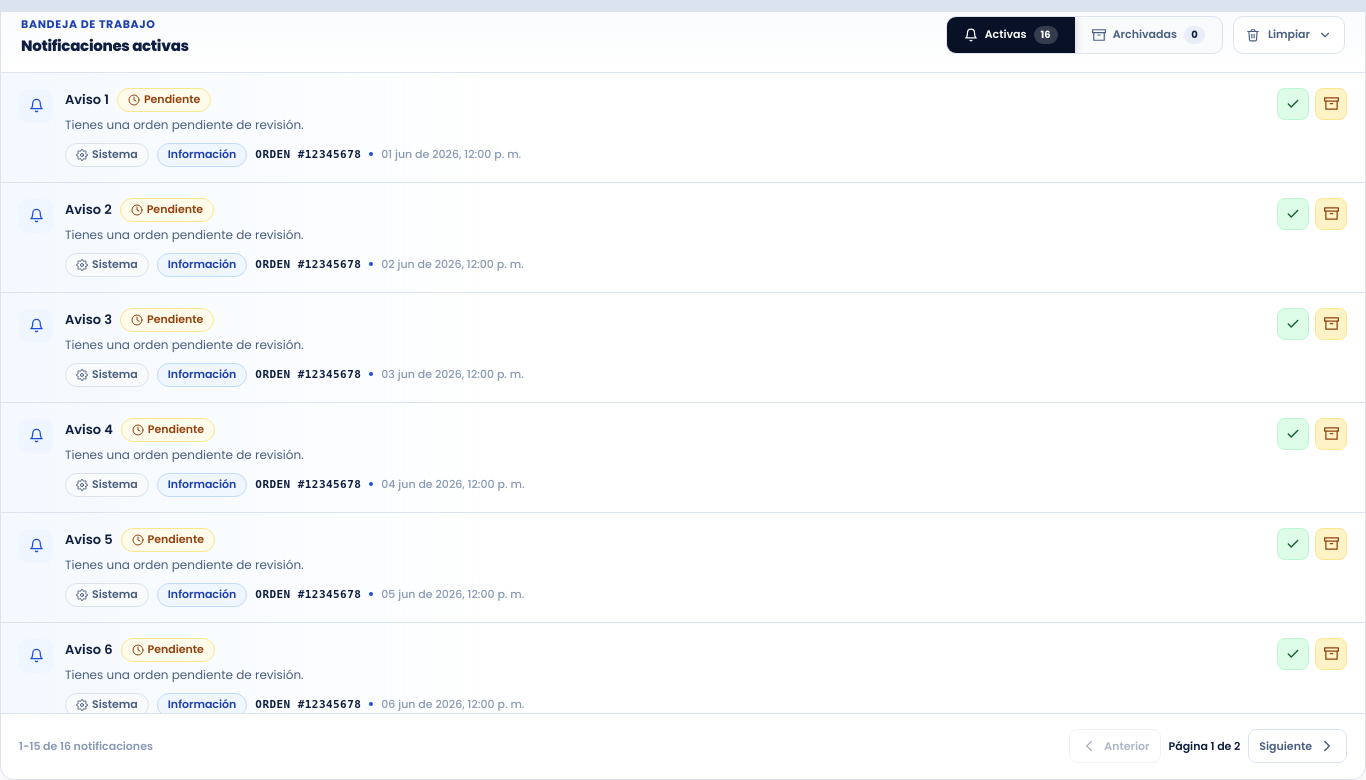
Test case: DesignerNotificationsModule › paginates notifications in groups of fifteen
(page scrolled)
Expected: the text "Página 1 de 2" is shown, [1168, 738, 1240, 754]
Expected: the text "Aviso 1" is shown, [65, 91, 109, 108]
Click the button "Siguiente".
click(1298, 746)  # box [1248, 729, 1347, 763]
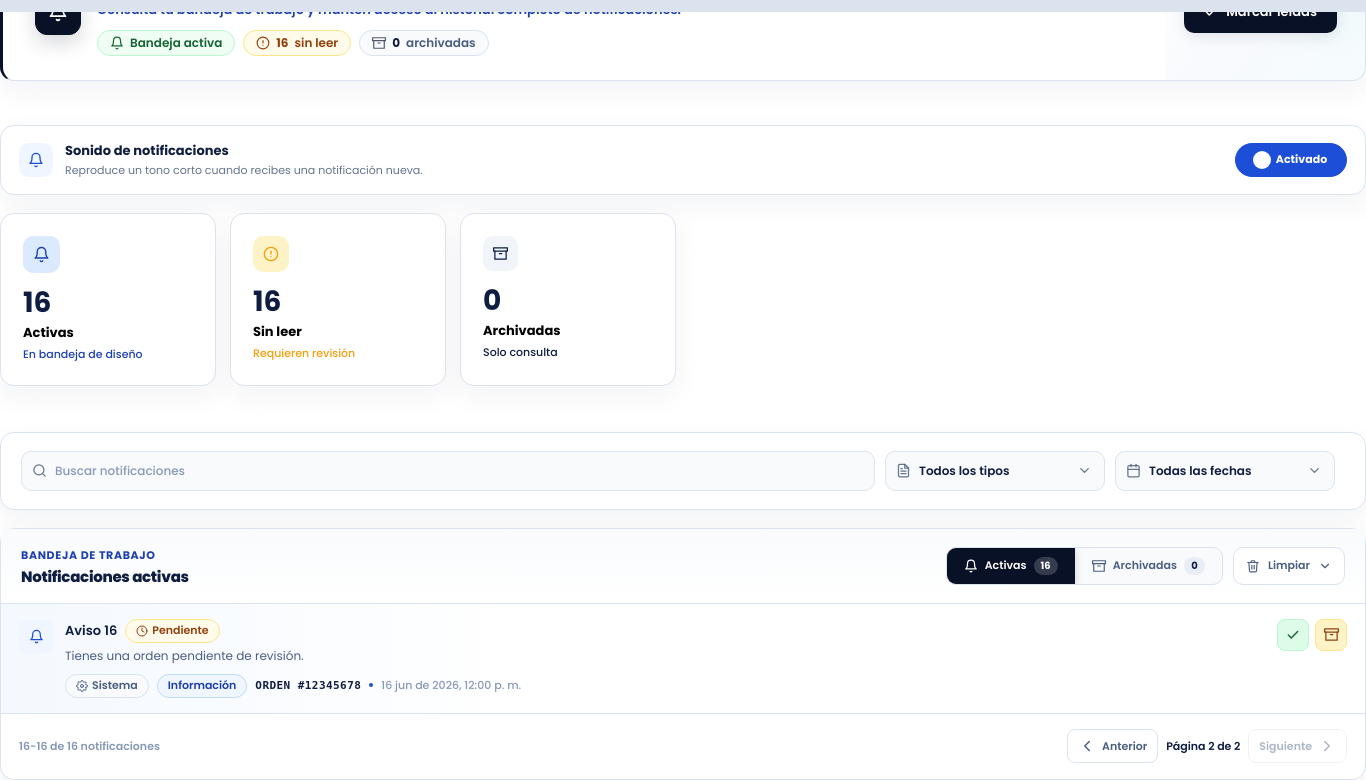
Expected: the text "Página 2 de 2" is shown, [1166, 738, 1240, 754]
Expected: the text "Aviso 16" is shown, [65, 622, 117, 640]
